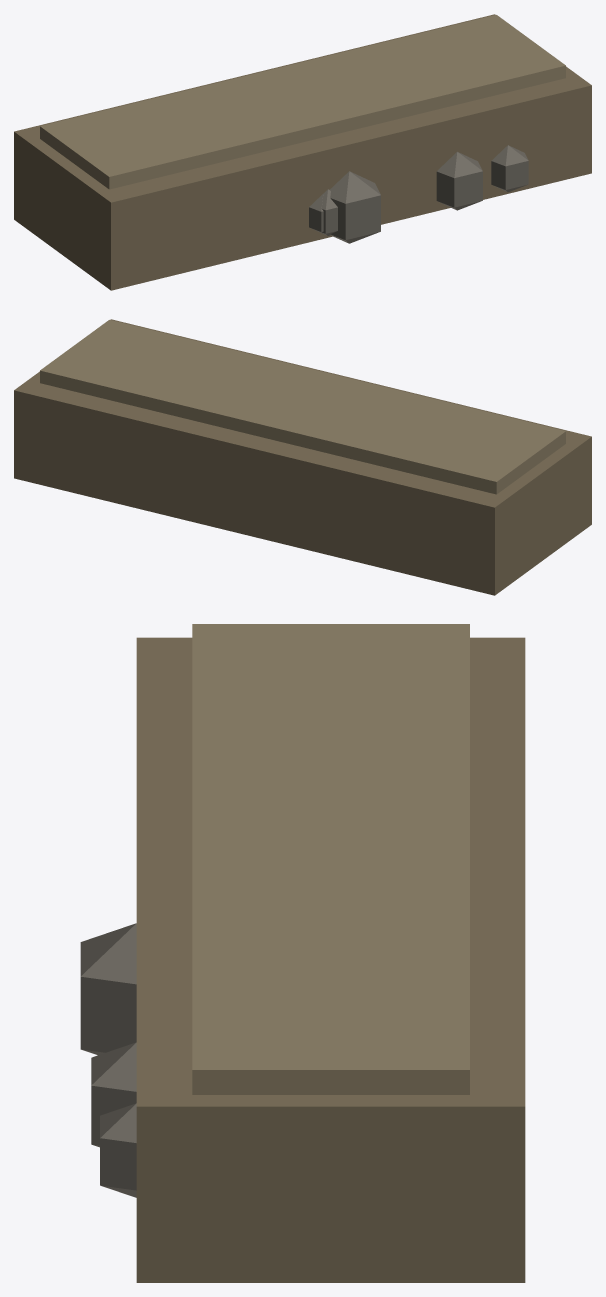
The model's file is river_bank.glb.
3 renders of one model, top to bottom at view 1: azimuth 30°, elevation 25°; view 2: azimuth 150°, elevation 25°; view 3: azimuth 270°, elevation 25°, orthographic. The views are drawn at different scales.
Parts seen in each view (by area): view 1: river_bank; view 2: river_bank; view 3: river_bank.
Boxes of the visible parts, x1,y1,x2,y2 form: river_bank: (14, 14, 591, 290); river_bank: (14, 319, 591, 595); river_bank: (80, 624, 525, 1282).
Bounding box in the file's own units: 4 × 0.889 × 1.6.
